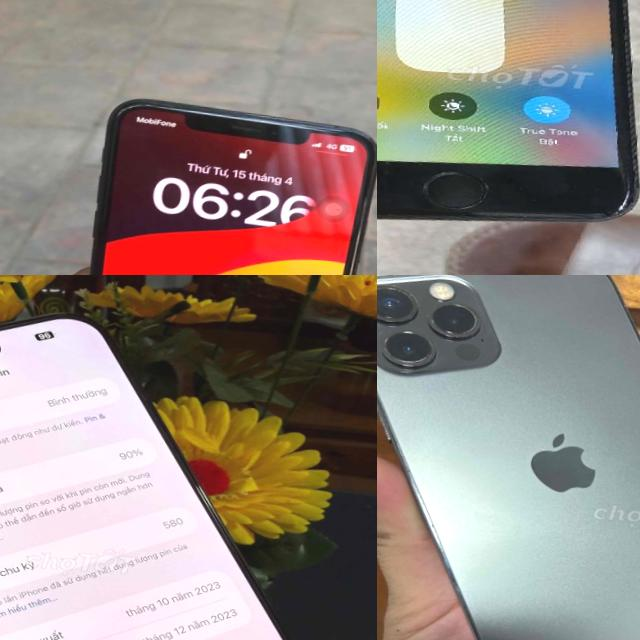scratch: (469, 196, 619, 232), (603, 178, 640, 216)
